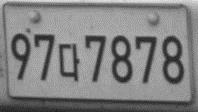7: (134, 35, 157, 83), (84, 34, 106, 82), (33, 33, 54, 81)
8: (110, 34, 133, 83), (160, 35, 183, 84)
9: (10, 32, 31, 80)
다: (57, 43, 80, 82)
